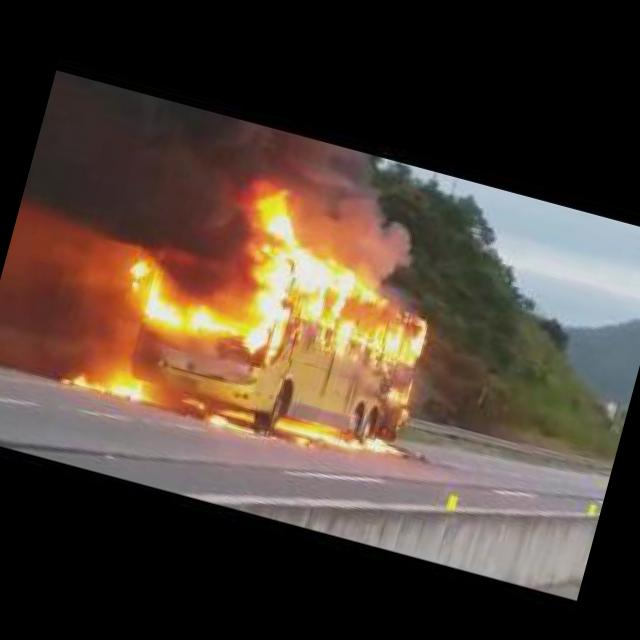fire: (218, 184, 452, 397), (112, 258, 233, 346), (49, 355, 160, 409), (310, 410, 374, 460), (378, 374, 416, 424), (206, 411, 260, 437), (217, 402, 256, 422), (178, 394, 204, 410)
smoke: (269, 139, 443, 283)
